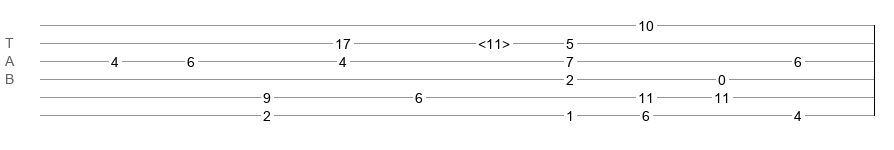0: (718, 72, 726, 82)
1: (566, 108, 574, 118)
10: (638, 18, 654, 28)
11: (638, 90, 654, 100), (714, 90, 730, 100)
17: (335, 36, 351, 46)
2: (263, 108, 271, 118), (566, 72, 574, 82)
4: (111, 54, 119, 64), (339, 54, 347, 64), (794, 108, 802, 118)
5: (566, 36, 574, 46)
6: (187, 54, 195, 64), (415, 90, 423, 100), (642, 108, 650, 118), (794, 54, 802, 64)
7: (566, 54, 574, 64)
9: (263, 90, 271, 100)
harmonic: (478, 36, 510, 46)
